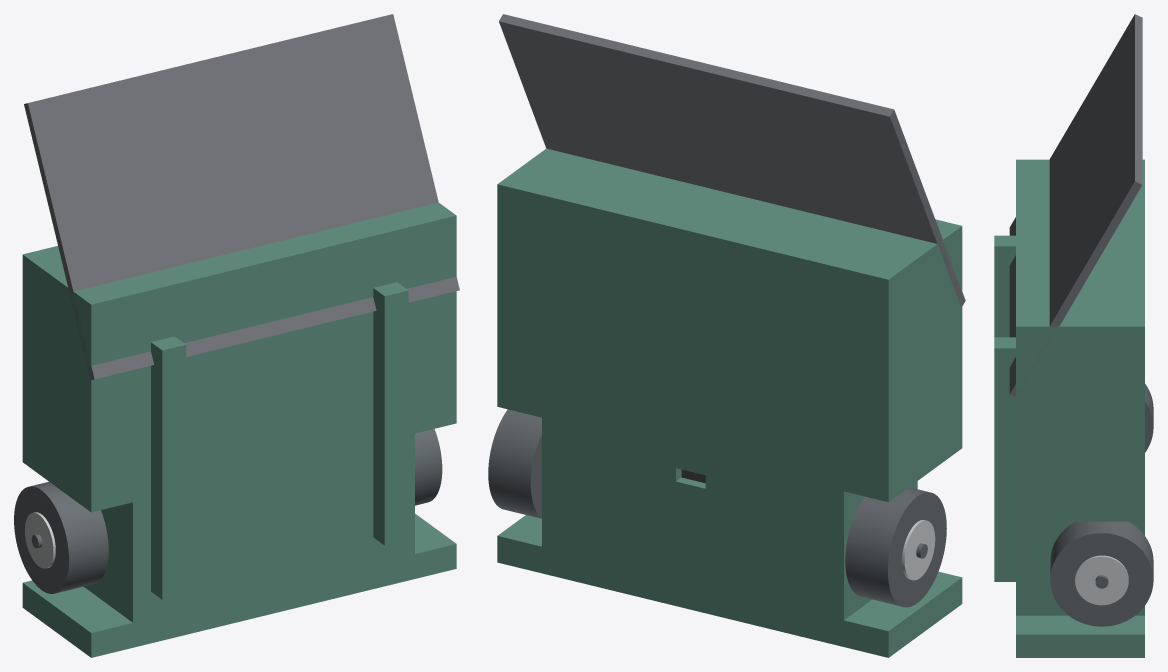
File: alpha.glb
3 renders of one model, left to right at view 1: azimuth 30°, elevation 25°; view 2: azimuth 150°, elevation 25°; view 3: azimuth 270°, elevation 25°, orthographic. The views are drawn at different scales.
Visible parts, largest first — view 1: chassis, scoop, link_r, link_l, wheel_r0, wheel_l0, dt_hub_wheel_r0; view 2: chassis, scoop, wheel_r0, wheel_l0, dt_hub_wheel_r0; view 3: chassis, scoop, wheel_l0, link_l, dt_hub_wheel_l0, link_r, wheel_r0.
Part boxes in pixels (left/top/right/bottom): chassis: left=22, top=202, right=456, bottom=657; scoop: left=24, top=14, right=459, bottom=379; link_r: left=151, top=336, right=186, bottom=599; link_l: left=373, top=282, right=408, bottom=545; wheel_r0: left=14, top=482, right=108, bottom=593; wheel_l0: left=415, top=429, right=442, bottom=505; dt_hub_wheel_r0: left=25, top=512, right=55, bottom=568; chassis: left=497, top=148, right=962, bottom=657; scoop: left=499, top=14, right=965, bottom=307; wheel_r0: left=845, top=487, right=946, bottom=607; wheel_l0: left=488, top=409, right=541, bottom=518; dt_hub_wheel_r0: left=902, top=520, right=935, bottom=580; chassis: left=1016, top=159, right=1144, bottom=657; scoop: left=1009, top=14, right=1142, bottom=397; wheel_l0: left=1050, top=521, right=1153, bottom=626; link_l: left=994, top=337, right=1015, bottom=581; dt_hub_wheel_l0: left=1075, top=555, right=1128, bottom=605; link_r: left=994, top=235, right=1015, bottom=337; wheel_r0: left=1145, top=384, right=1153, bottom=452.
Size of the model in its own units: 97.2 by 122 by 37.
